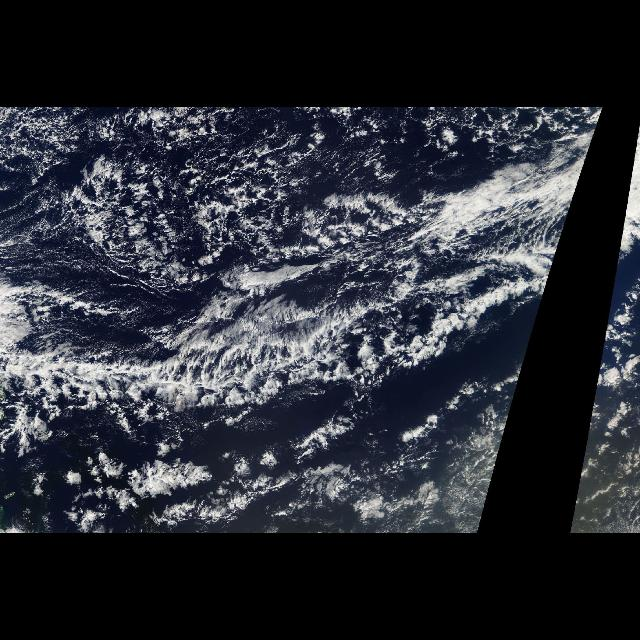Fish: (1, 174, 576, 524), (570, 371, 598, 524)
Gravel: (1, 108, 376, 272)
Sugar: (2, 175, 74, 285)
